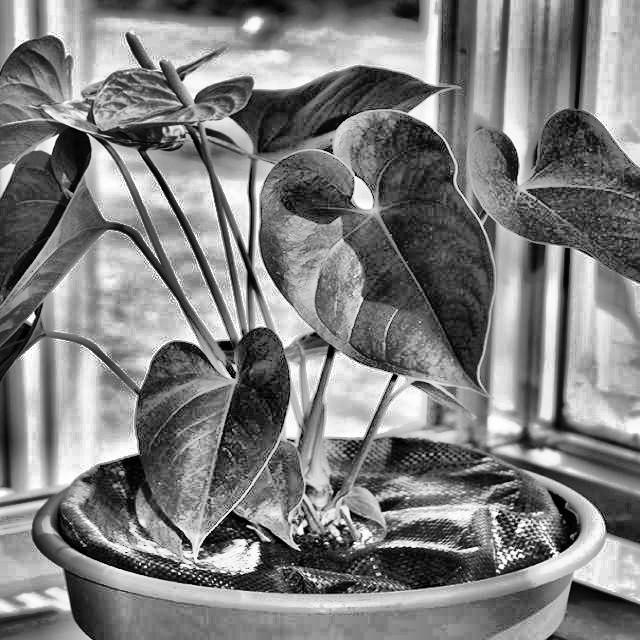plants: (15, 18, 592, 622)
